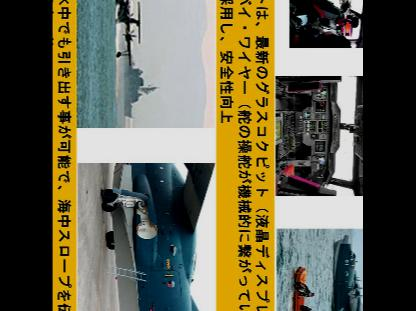Tu95: (101, 161, 216, 309), (333, 233, 364, 309), (116, 0, 142, 67)
